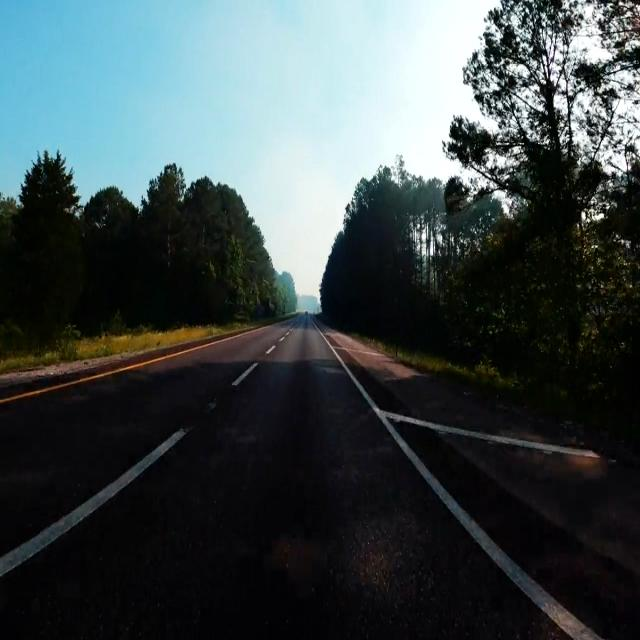lane: (314, 326, 599, 639), (0, 430, 189, 577), (0, 326, 268, 404), (384, 411, 599, 457), (231, 362, 258, 386)
road: (0, 316, 565, 637), (395, 423, 640, 636), (325, 330, 560, 442)
